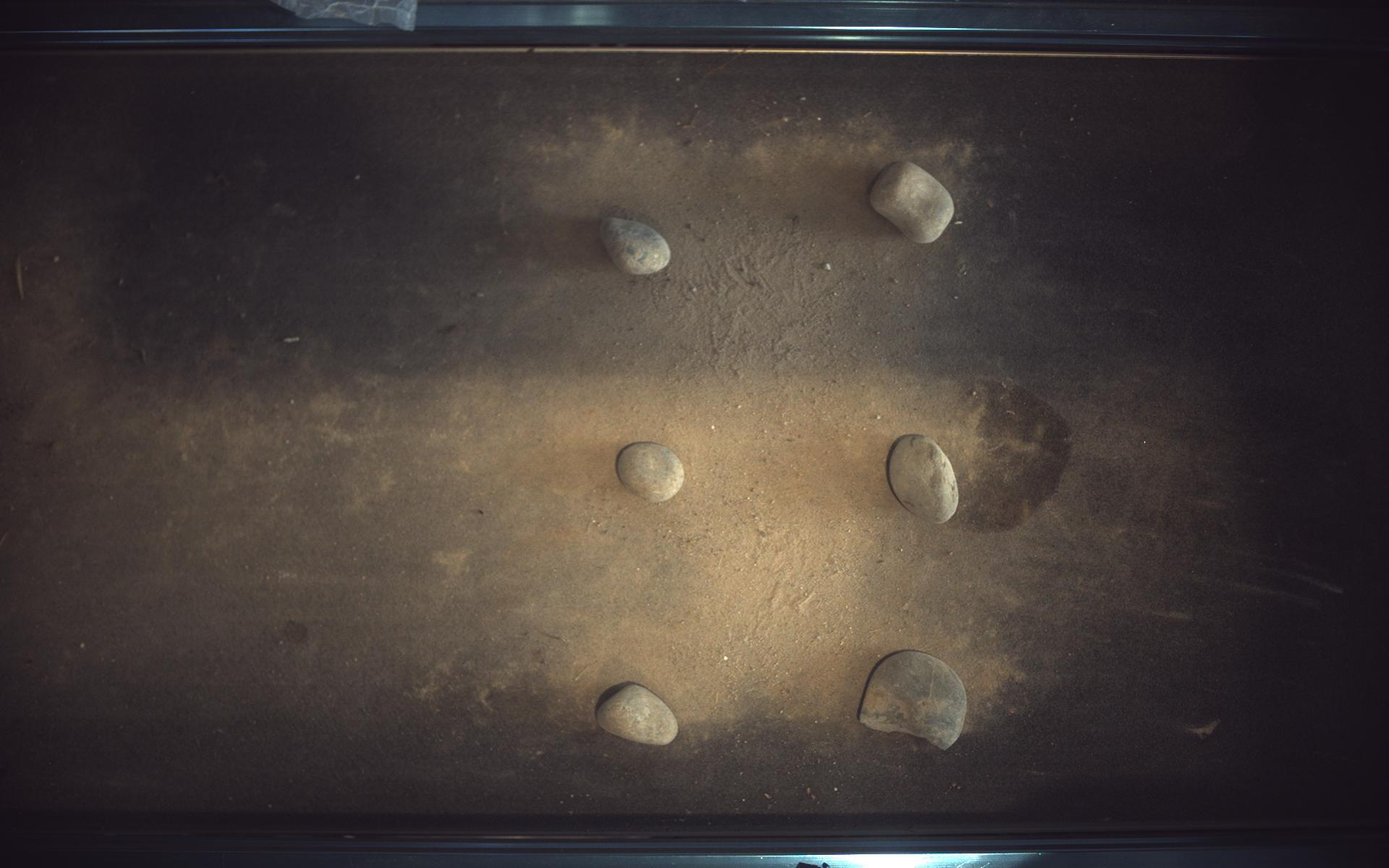stone: (861, 651, 969, 751), (871, 161, 956, 243), (888, 434, 961, 524), (598, 685, 679, 746), (617, 442, 685, 503), (601, 217, 671, 274)
